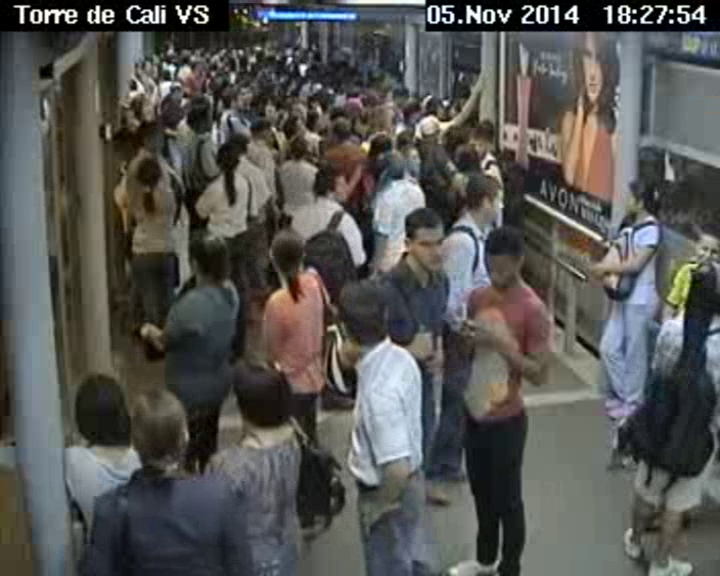person: (224, 352, 302, 440), (122, 384, 196, 471), (328, 275, 394, 359), (66, 367, 128, 446), (477, 222, 527, 296), (400, 208, 447, 279), (185, 229, 230, 288), (465, 172, 507, 232), (260, 221, 309, 272), (683, 259, 720, 323), (309, 158, 349, 206), (619, 177, 661, 221), (688, 222, 720, 266), (135, 114, 167, 156), (206, 141, 241, 176), (467, 126, 498, 161), (134, 158, 162, 194), (377, 147, 407, 180), (187, 101, 215, 135), (246, 119, 277, 149), (413, 113, 444, 142), (452, 140, 479, 173), (283, 132, 311, 161), (367, 133, 395, 161), (279, 113, 308, 140), (330, 117, 351, 144), (426, 91, 446, 119), (129, 95, 154, 116), (390, 84, 410, 108), (163, 80, 186, 99), (261, 96, 279, 119), (239, 82, 255, 104)
